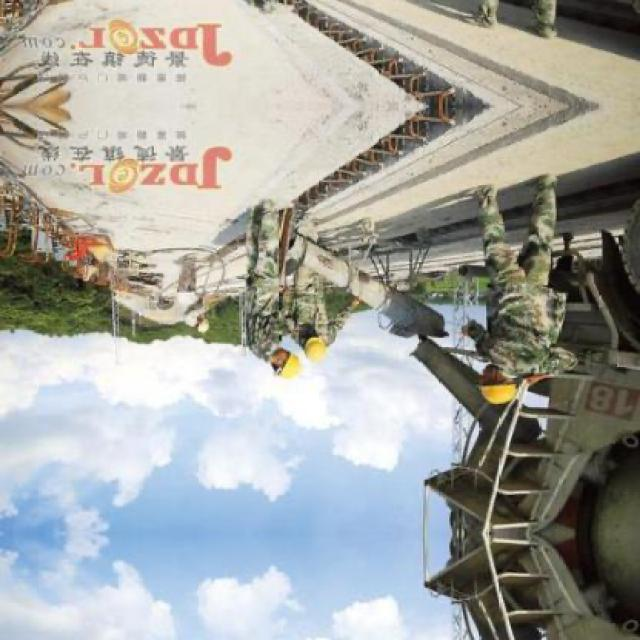con casco: (437, 332, 553, 426), (238, 320, 312, 394), (291, 318, 343, 372)
